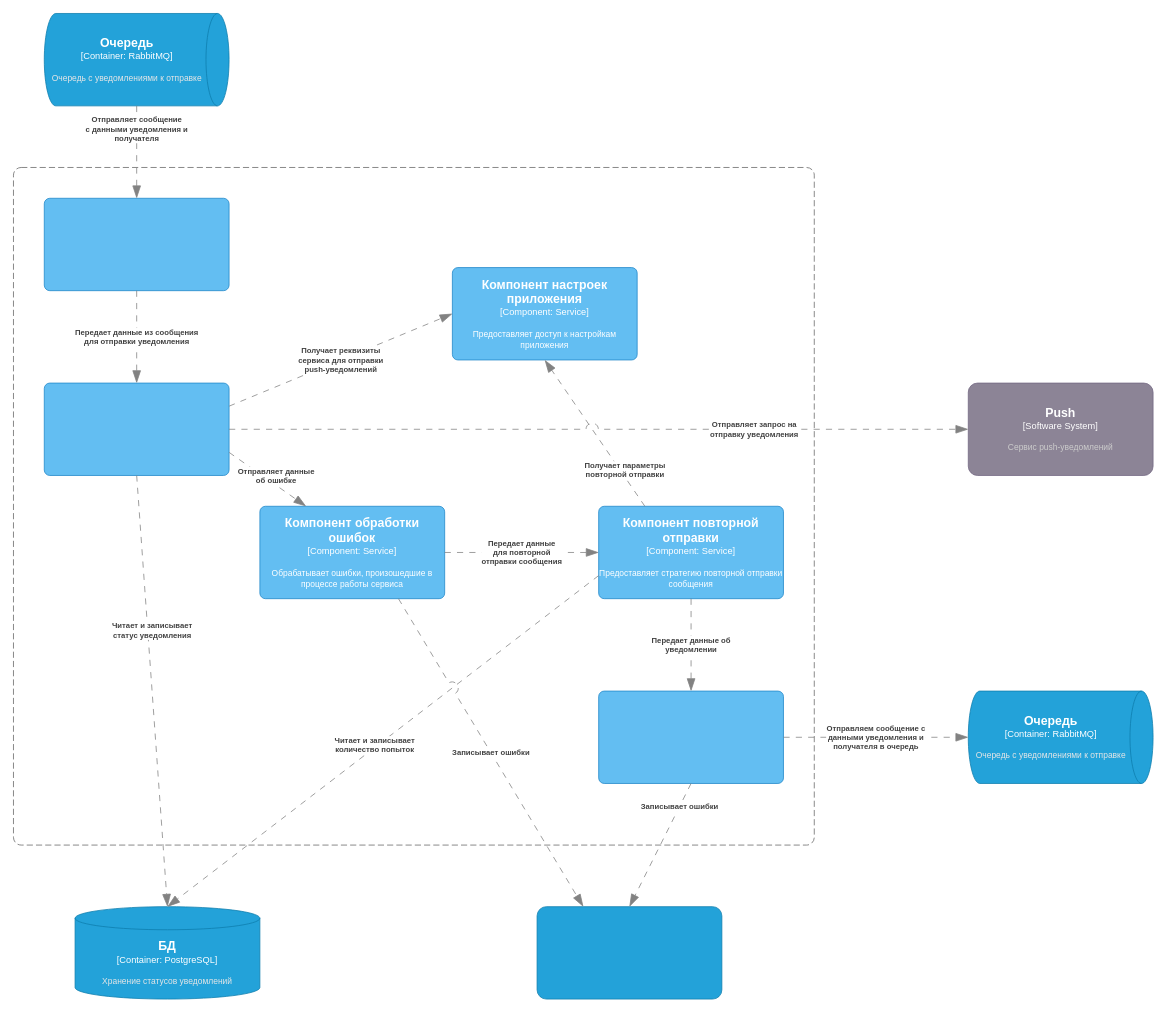
This 1167x1013 diagram has some shape labels left out. Here are the shapes that lost their labels. From the top down, the centre of each, then its label:
At (136,244): "Компонент обработки сообщения [Component: Service] Получает сообщение из очереди".
At (136,428): "Компонент отправки push-уведомлений [Component: Service] Отправляет эл. почту".
At (690,736): "Компонент publisher [Component: Service] Отправляет сообщение в очередь".
At (629,952): "Логи [Container: Loki and Grafana] Система хранения логов".
